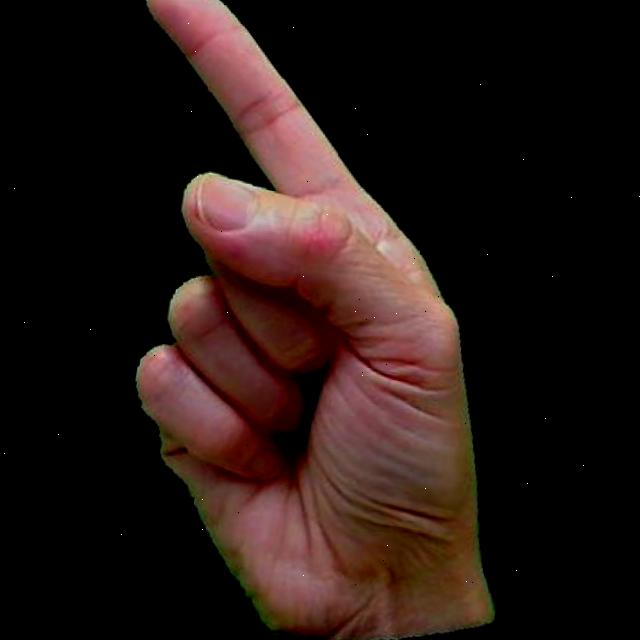z: (27, 0, 609, 640)
